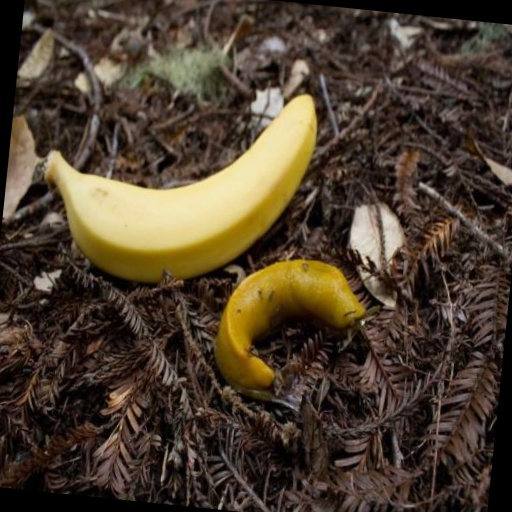fruit: (281, 151, 452, 466), (198, 51, 432, 248)
